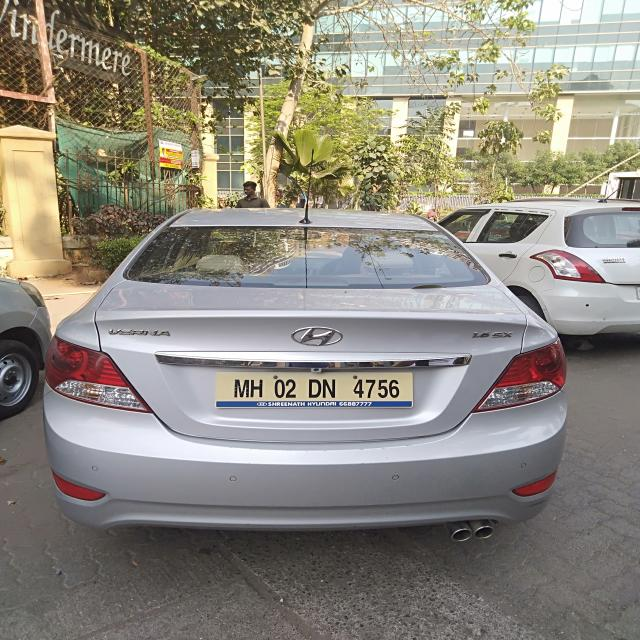Number-Plate: (216, 370, 417, 404)
